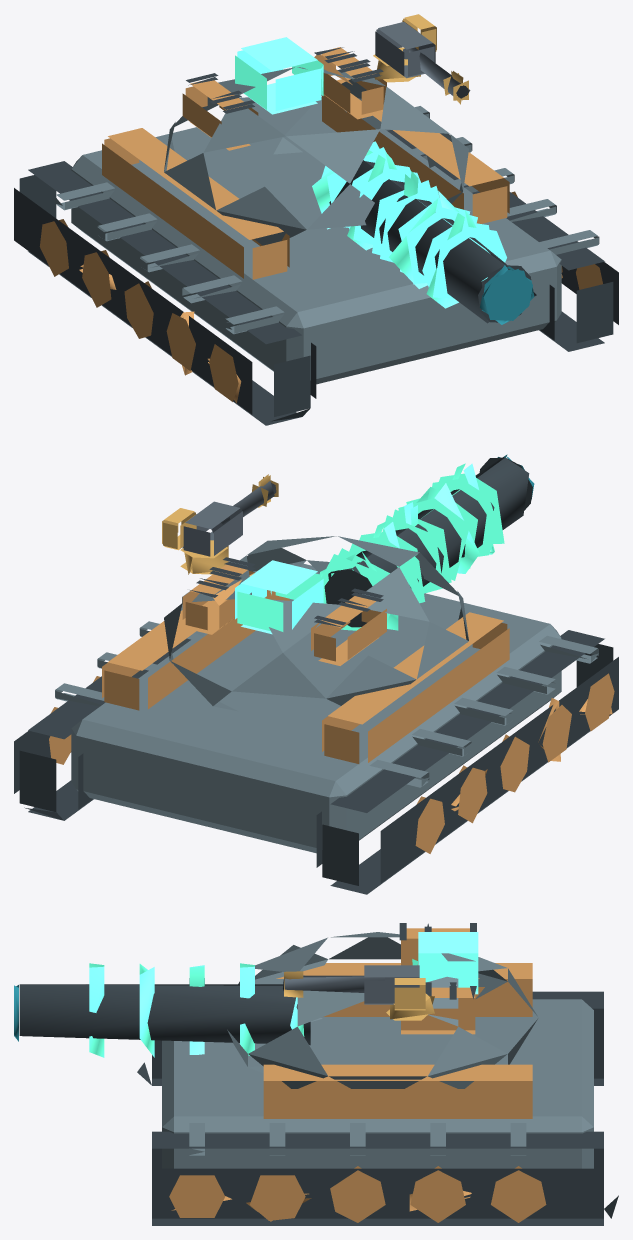
The model's file is boss-laser.glb.
The picture shows the model from 3 angles, top to bottom: view 1: azimuth 30°, elevation 25°; view 2: azimuth 150°, elevation 25°; view 3: azimuth 270°, elevation 25°; orthographic projection. The views are drawn at different scales.
Visible parts, largest first — view 1: Lower chassis, Track housing, Road wheel, Laser turret, Cooling coil, Laser emitter, Core, Capacitor, Auxiliary receiver, Focusing lens, Auxiliary swivel; view 2: Lower chassis, Track housing, Road wheel, Laser turret, Cooling coil, Laser emitter, Capacitor, Core, Auxiliary receiver, Auxiliary swivel; view 3: Lower chassis, Road wheel, Track housing, Laser emitter, Laser turret, Cooling coil, Core, Auxiliary receiver, Capacitor, Auxiliary swivel.
Part boxes in pixels (x1,y1,x2,y2): Lower chassis: (55,96,599,384); Track housing: (14,130,618,425); Road wheel: (39,78,602,403); Laser turret: (164,67,468,245); Cooling coil: (312,141,506,308); Laser emitter: (186,47,536,323); Core: (235,37,323,114); Capacitor: (182,47,386,150); Auxiliary receiver: (375,22,470,95); Focusing lens: (480,265,534,324); Auxiliary swivel: (373,14,468,104); Lower chassis: (55,561,598,853); Track housing: (14,630,618,894); Road wheel: (49,590,614,853); Laser turret: (164,536,468,711); Cooling coil: (319,463,504,630); Laser emitter: (190,457,532,627); Capacitor: (182,564,386,665); Core: (235,560,323,634); Auxiliary receiver: (182,480,276,556); Auxiliary swivel: (162,474,278,574); Lower chassis: (162,978,593,1168); Road wheel: (169,963,546,1222); Track housing: (137,991,618,1225); Laser emitter: (19,923,476,1045); Laser turret: (227,932,537,1088); Cooling coil: (89,963,304,1057); Core: (412,932,478,994); Auxiliary receiver: (284,965,419,1004); Capacitor: (401,928,475,1034); Auxiliary swivel: (284,971,434,1020).
Bounding box in the file's own units: 4.1 × 2.43 × 6.03.
